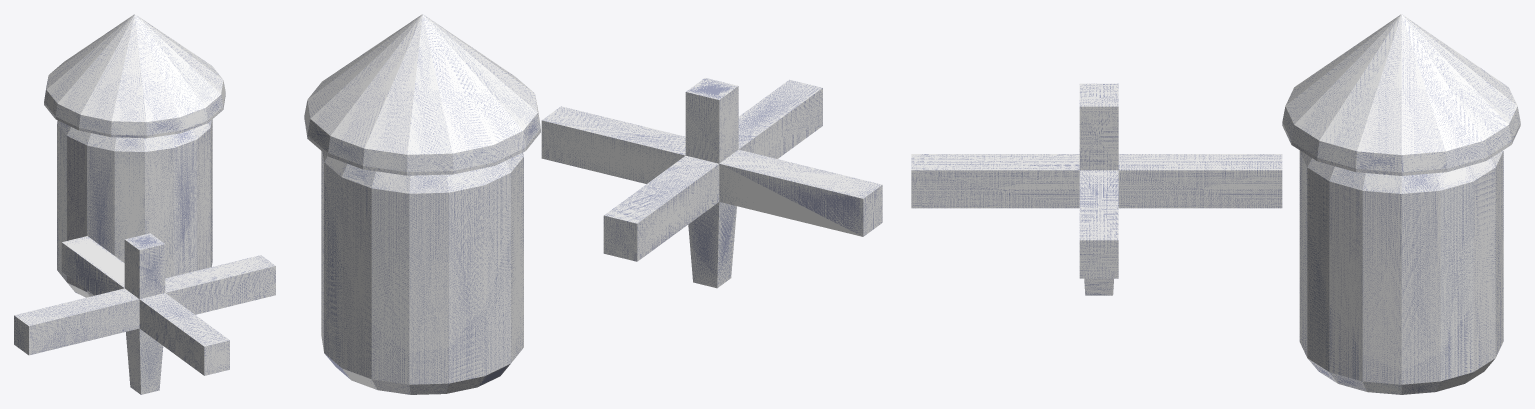
The model's file is Silo_v2_nontwo_noEdges.dae.
3 views of the same model, side by side, from view 1: azimuth 30°, elevation 25°; view 2: azimuth 150°, elevation 25°; view 3: azimuth 270°, elevation 25° (orthographic). The views are drawn at different scales.
Parts seen in each view (by area): view 1: siloCap, cross_v1; view 2: siloCap, cross_v1; view 3: siloCap, cross_v1.
Part boxes in pixels (<box>): siloCap: <box>44,14,225,297</box>; cross_v1: <box>14,233,275,394</box>; siloCap: <box>304,14,540,394</box>; cross_v1: <box>541,78,882,288</box>; siloCap: <box>1282,14,1520,394</box>; cross_v1: <box>911,83,1282,295</box>.
Size of the model in its own units: 124 by 163 by 101.
